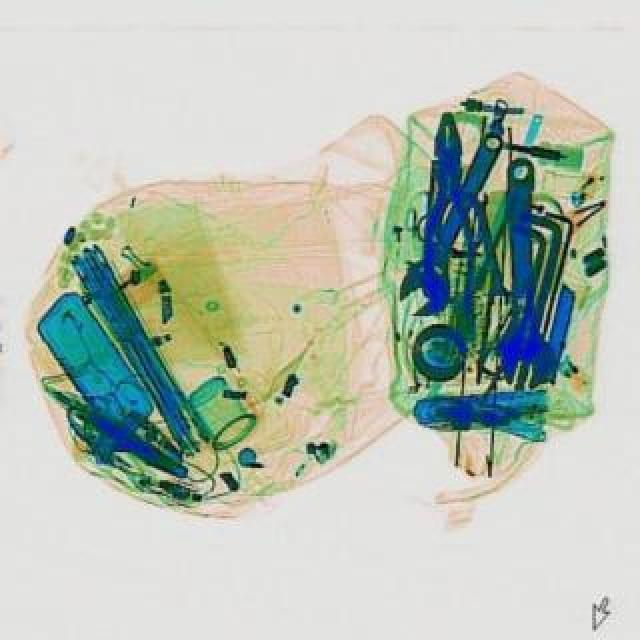scissors: (384, 126, 528, 332), (492, 160, 556, 392)
wrench: (416, 114, 478, 322)
